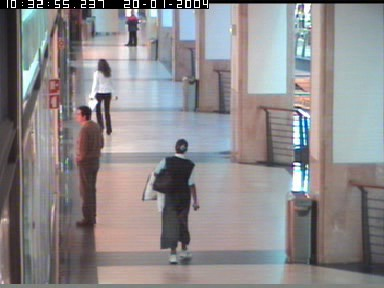person: (140, 138, 199, 264), (75, 105, 104, 227), (85, 57, 119, 134), (124, 11, 139, 46)
